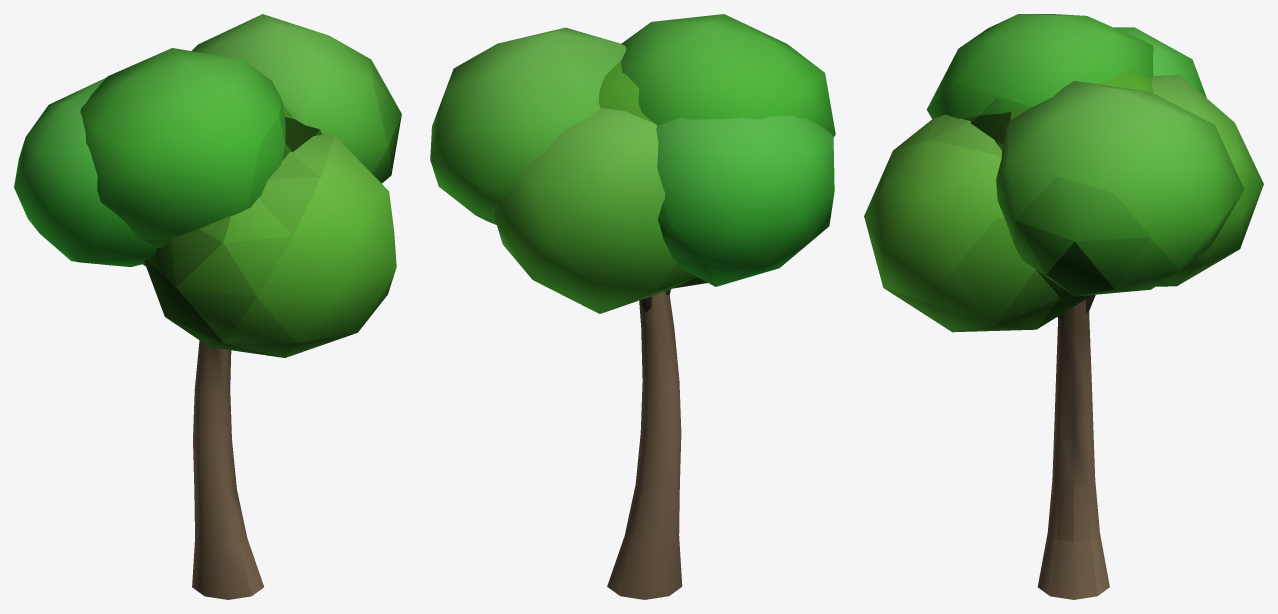
File: tree-b.glb
The picture shows the model from 3 angles, left to right: view 1: azimuth 30°, elevation 25°; view 2: azimuth 150°, elevation 25°; view 3: azimuth 270°, elevation 25°; orthographic projection. The views are drawn at different scales.
Parts seen in each view (by area): view 1: tree-b; view 2: tree-b; view 3: tree-b.
Boxes of the visible parts, x1,y1,x2,y2 form: tree-b: (14,14,401,599); tree-b: (430,14,835,599); tree-b: (864,14,1263,599).
Bounding box in the file's own units: 5.56 × 8.05 × 5.37.
